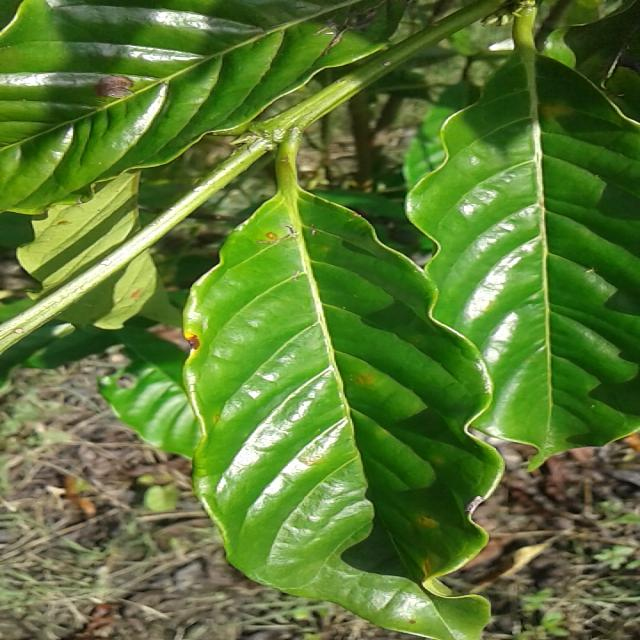Enfermedad-Roya: (180, 144, 504, 640)
